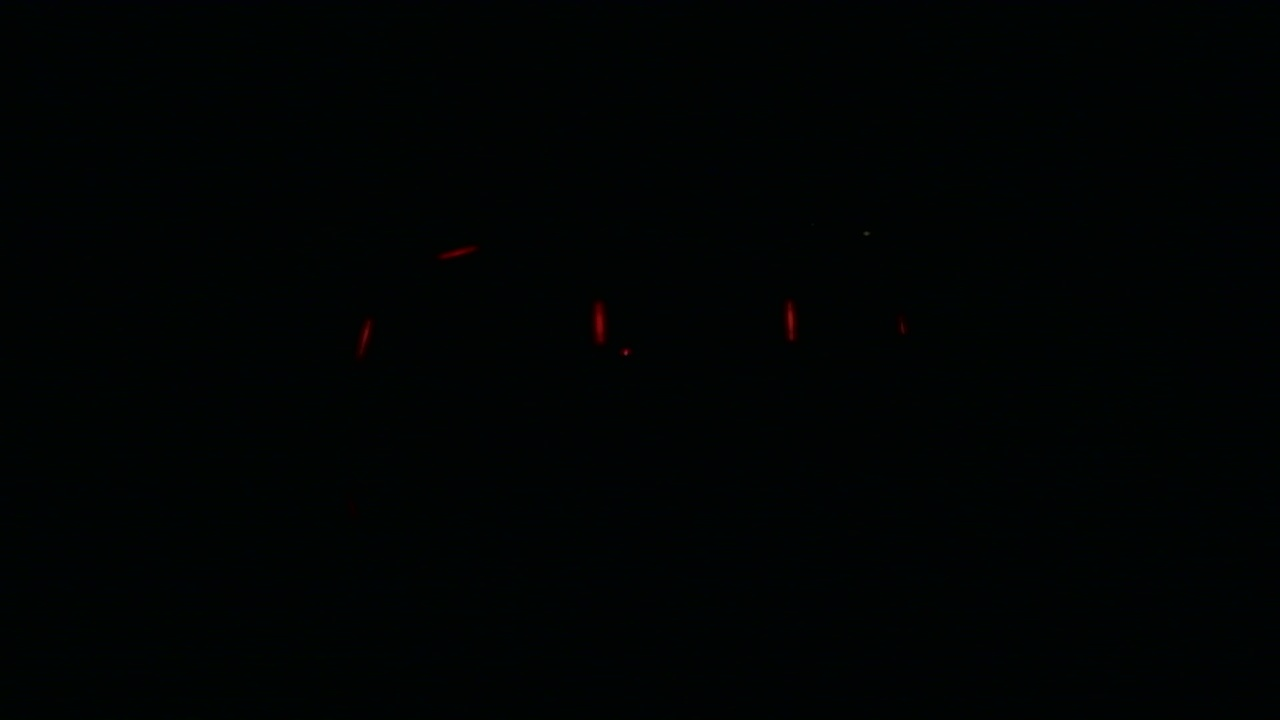lamp: (591, 300, 610, 342), (355, 316, 371, 359), (783, 298, 797, 341)
notpair2: (355, 297, 613, 356)
pair2: (591, 301, 797, 344)
